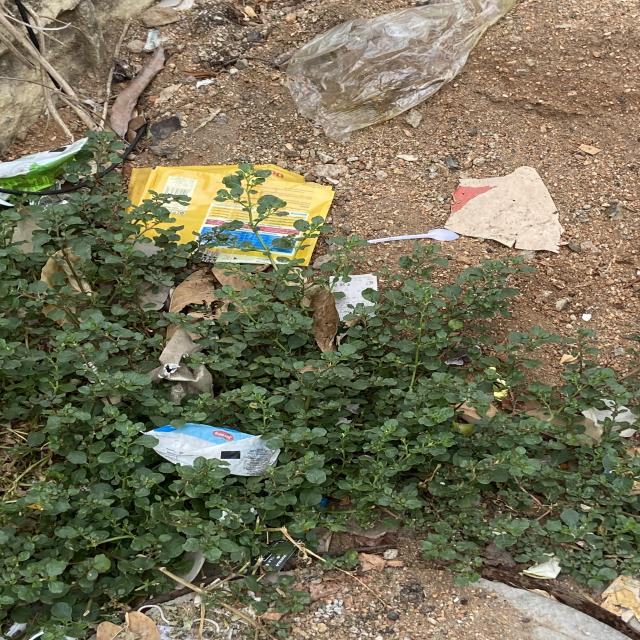paper: (445, 166, 564, 252), (127, 164, 248, 243), (255, 164, 334, 244), (204, 225, 271, 263), (272, 238, 316, 265)
plastic: (285, 0, 515, 141), (144, 423, 280, 477), (0, 137, 87, 191), (367, 228, 459, 243)
